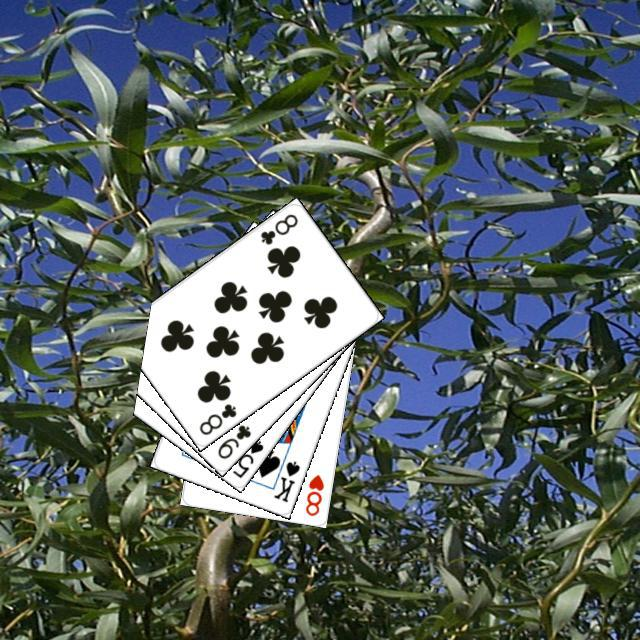5s: (227, 435, 265, 480)
8c: (255, 209, 300, 247), (194, 399, 238, 437)
8h: (300, 470, 325, 518)
9c: (212, 420, 253, 461)
Ks: (269, 456, 301, 504)
